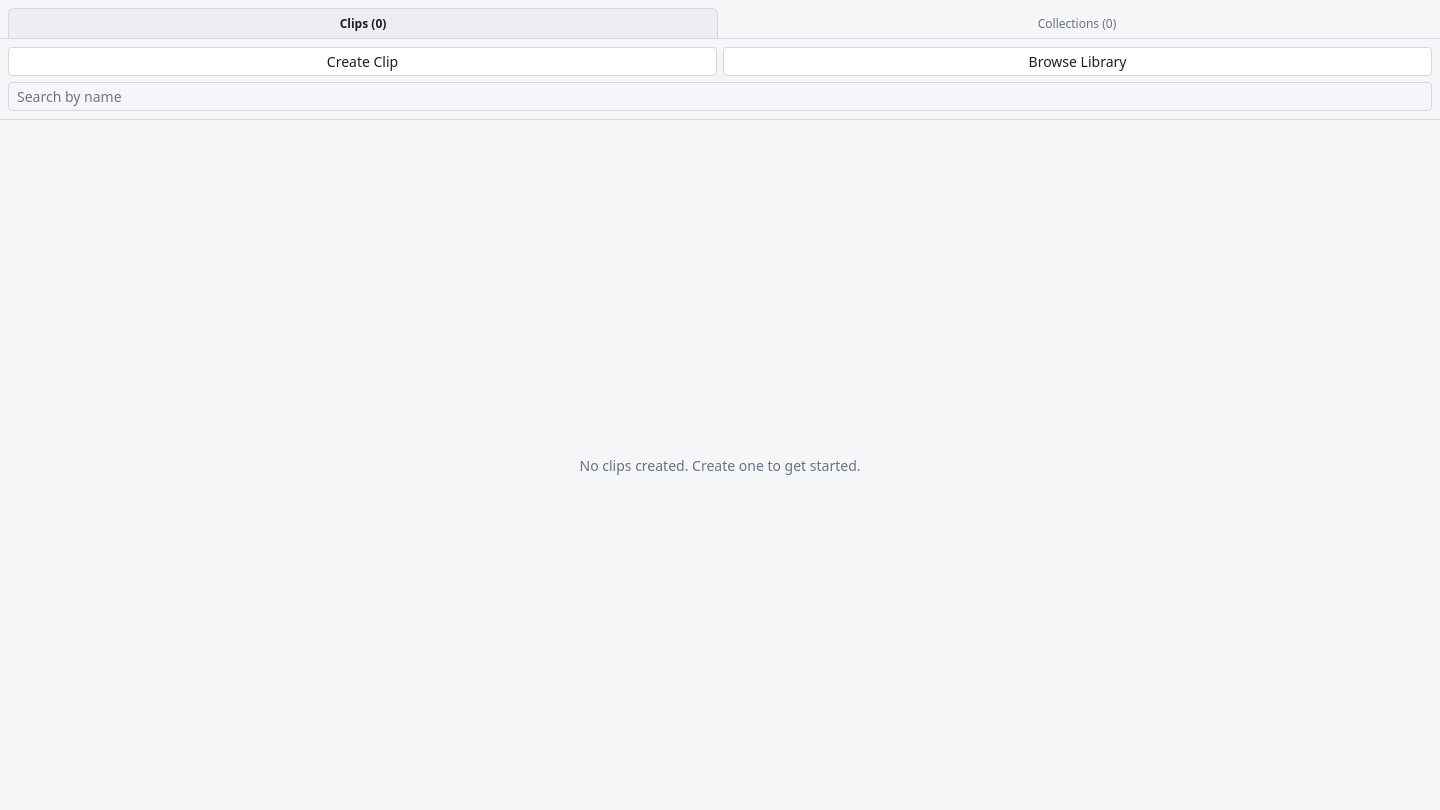
Scenario: LibraryBrowser › Library content › shows all library clips with name, duration, category, and channel count
Click the button with test id "clips-browse-button" at point(1078, 62), box 723,47 -> 1432,76
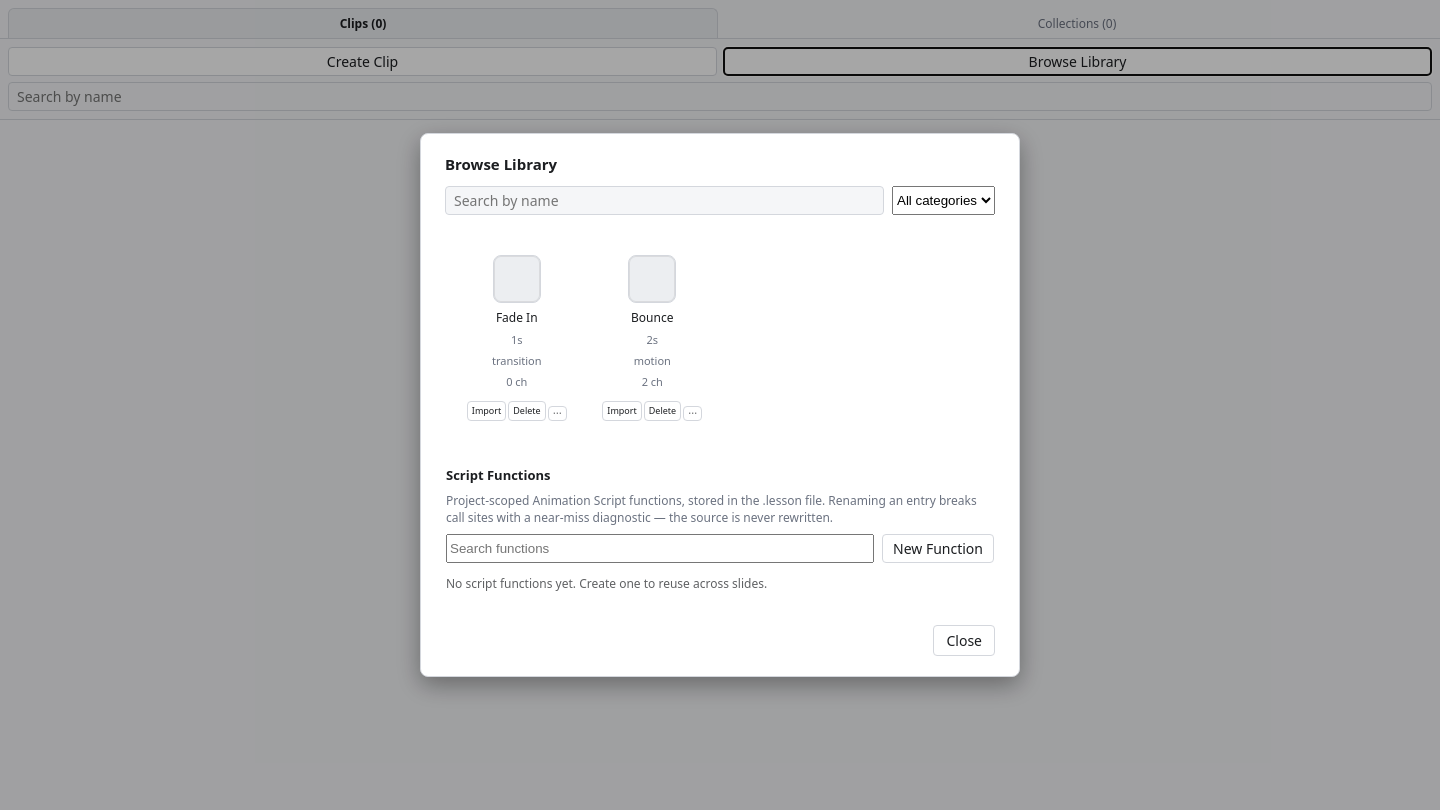
Check: the text "Fade In" is shown, box 496,309 -> 538,326
Check: the text "Bounce" is shown, box 631,309 -> 673,326
Check: the text "1s" is shown, box 511,332 -> 523,347
